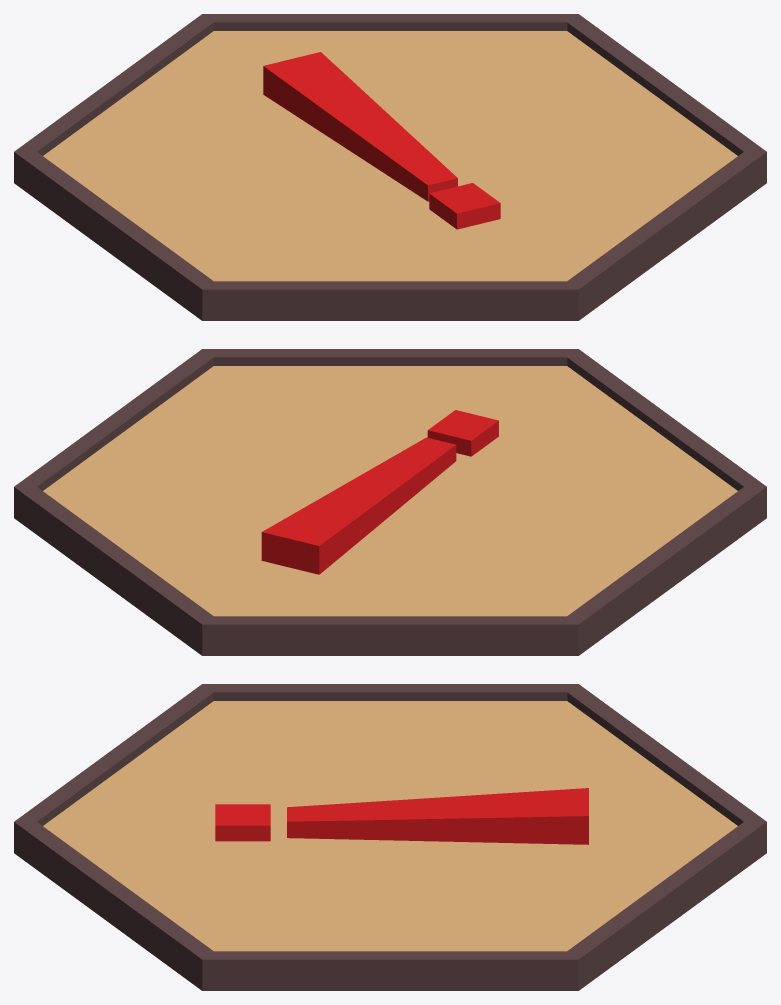
Rendered from EventDice.fbx.
3 renders of one model, top to bottom at view 1: azimuth 30°, elevation 25°; view 2: azimuth 150°, elevation 25°; view 3: azimuth 270°, elevation 25°, orthographic.
Visible parts, largest first — view 1: Cube; view 2: Cube; view 3: Cube.
Boxes of the visible parts, x1=… form: Cube: x1=14, y1=14, x2=766, y2=320; Cube: x1=14, y1=349, x2=766, y2=655; Cube: x1=14, y1=684, x2=766, y2=990.
Size of the model in its own units: 314 by 363 by 27.41.
